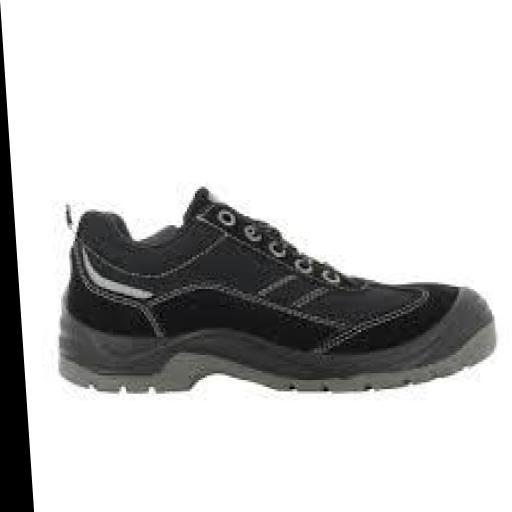safety_boots: (52, 191, 512, 419)
